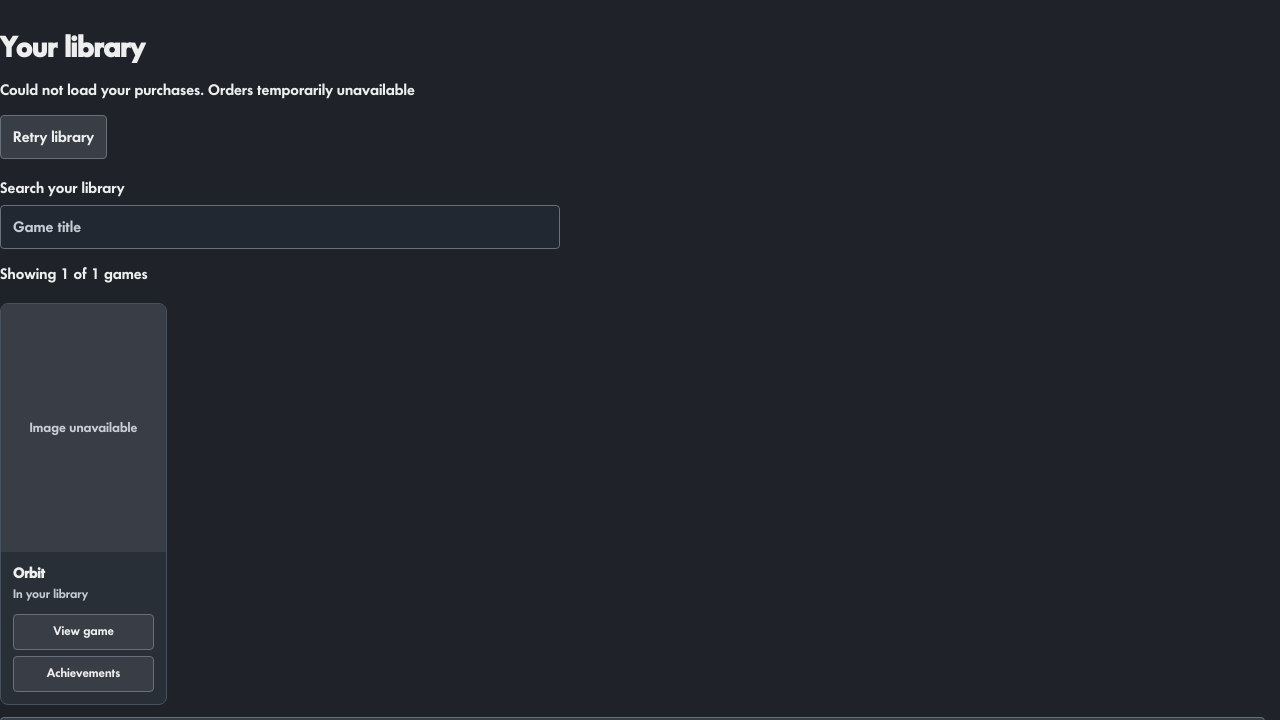
Test case: retains confirmed purchases after a failed refresh and applies refunds on retry
Expected: the text "Could not load your purchases. Orders temporarily unavailable" is shown, [0,82,415,98]
Expected: the text "Your library is empty." is not shown
Click the button "Retry library" at (54, 137), box [0,115,107,159]
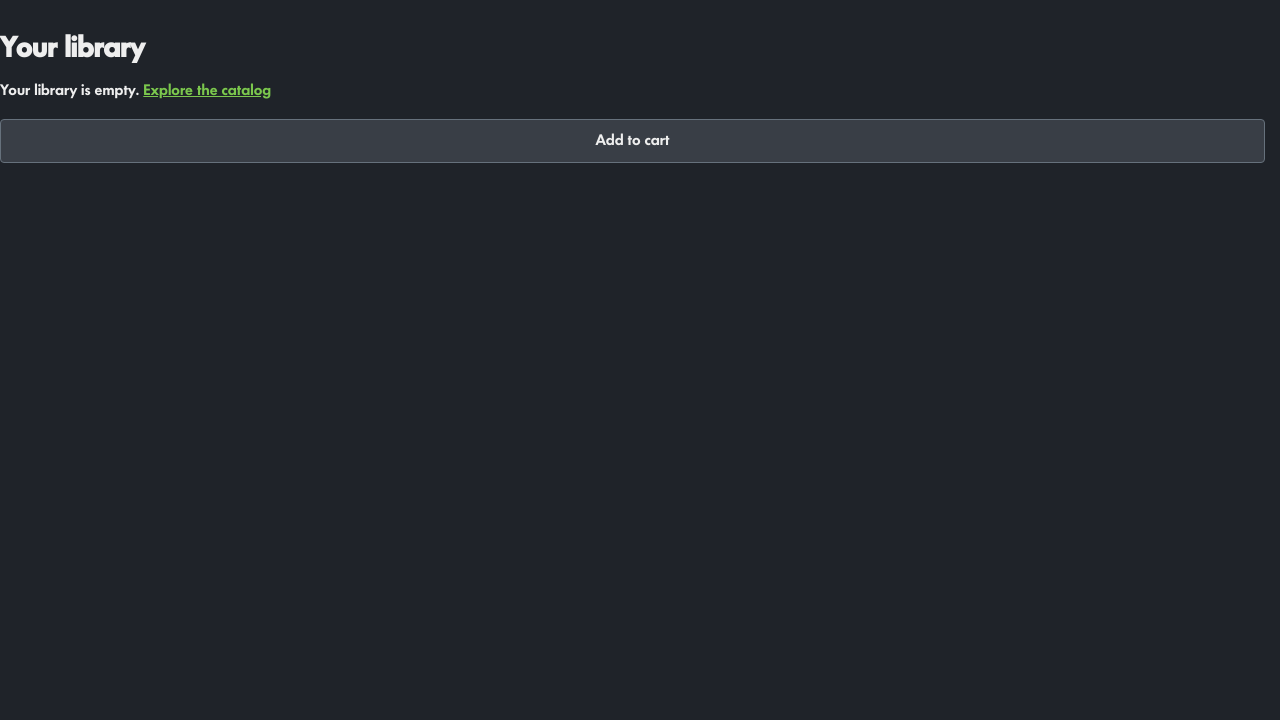
Now the text "Your library is empty." is shown, box [0,82,143,98]
Now the heading "Orbit" is gone
Now the button "Add to cart" is enabled, box [0,119,1265,163]
